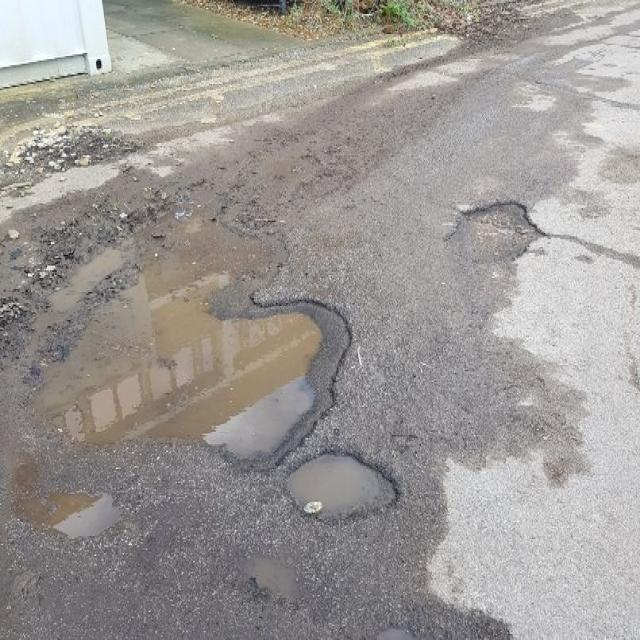pothole: (14, 158, 356, 488), (274, 439, 403, 528), (440, 188, 547, 262)
